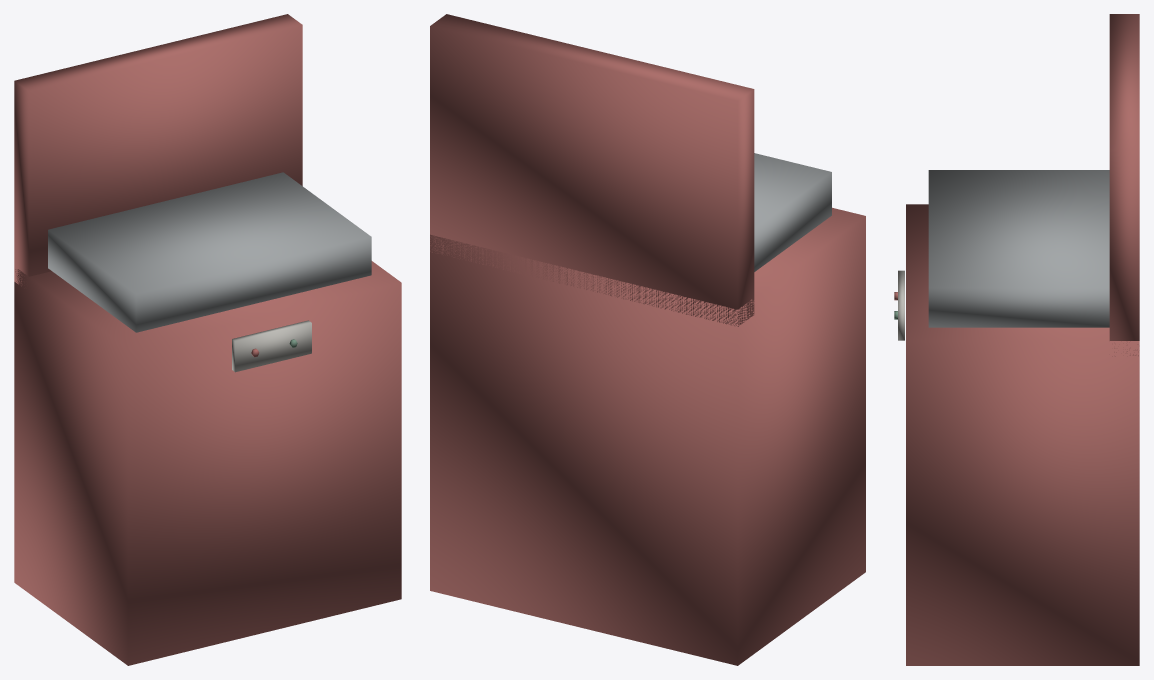
Rendered from parts_washer__tall.glb.
The picture shows the model from 3 angles, left to right: view 1: azimuth 30°, elevation 25°; view 2: azimuth 150°, elevation 25°; view 3: azimuth 270°, elevation 25°; orthographic projection. The views are drawn at different scales.
Parts seen in each view (by area): view 1: world; view 2: world; view 3: world.
Boxes of the visible parts, left/top/right/bottom form: world: left=14, top=14, right=401, bottom=665; world: left=430, top=14, right=865, bottom=665; world: left=894, top=14, right=1139, bottom=665.
Size of the model in its own units: 0.86 by 1.51 by 0.651.
